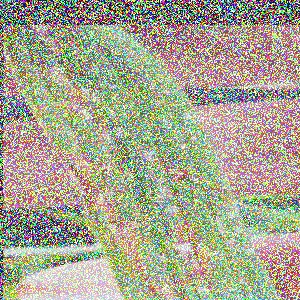Brown_Spot: (55, 145, 104, 214), (164, 225, 207, 273), (46, 95, 96, 133), (140, 263, 187, 300), (156, 159, 196, 192), (76, 74, 109, 113), (28, 26, 67, 56), (39, 65, 78, 89), (94, 151, 122, 180), (92, 121, 116, 153), (100, 174, 123, 204), (104, 208, 129, 234), (89, 188, 108, 214), (154, 244, 173, 268)
